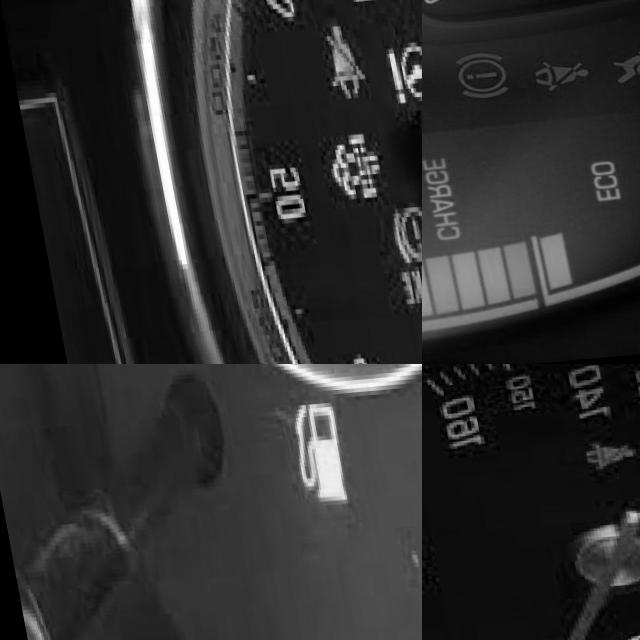Electronic Power Steering: (375, 48, 422, 115)
Seat Belt: (311, 28, 356, 104), (517, 65, 578, 99), (574, 444, 632, 476)
